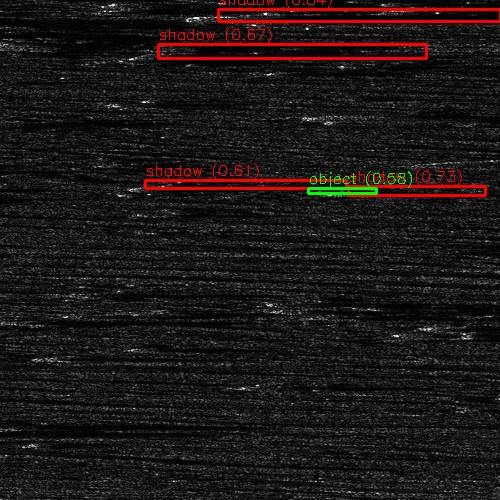rock: (166, 7, 291, 24), (274, 109, 399, 122), (122, 44, 215, 61), (0, 34, 74, 49), (435, 156, 498, 167), (100, 97, 173, 106), (381, 2, 454, 11), (337, 182, 368, 199), (267, 67, 330, 72), (224, 382, 287, 387), (0, 418, 26, 429), (0, 317, 54, 322), (23, 354, 64, 359), (87, 281, 98, 298), (148, 345, 189, 348), (479, 321, 500, 326), (462, 330, 483, 335), (0, 117, 17, 122)
shadow: (12, 34, 381, 49), (229, 7, 500, 24), (0, 23, 246, 40), (0, 0, 217, 19), (169, 44, 392, 61), (0, 418, 337, 429), (353, 182, 500, 199), (337, 109, 500, 122), (0, 14, 173, 25), (93, 281, 199, 298), (23, 317, 229, 322), (137, 97, 246, 106), (256, 382, 423, 387), (44, 354, 204, 359), (7, 117, 163, 122), (418, 2, 500, 11), (0, 190, 79, 199), (299, 67, 415, 72), (169, 41, 336, 44), (467, 156, 500, 167), (169, 345, 277, 348), (473, 330, 500, 335)
